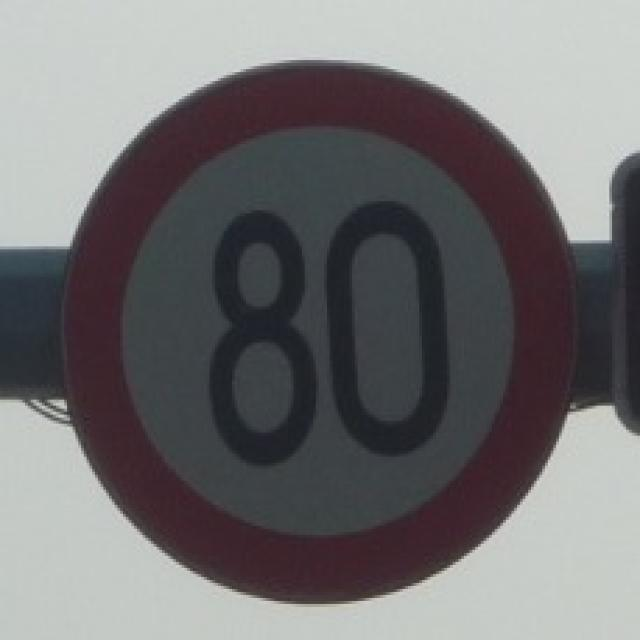Speed Limit -80-: (185, 193, 460, 474)
